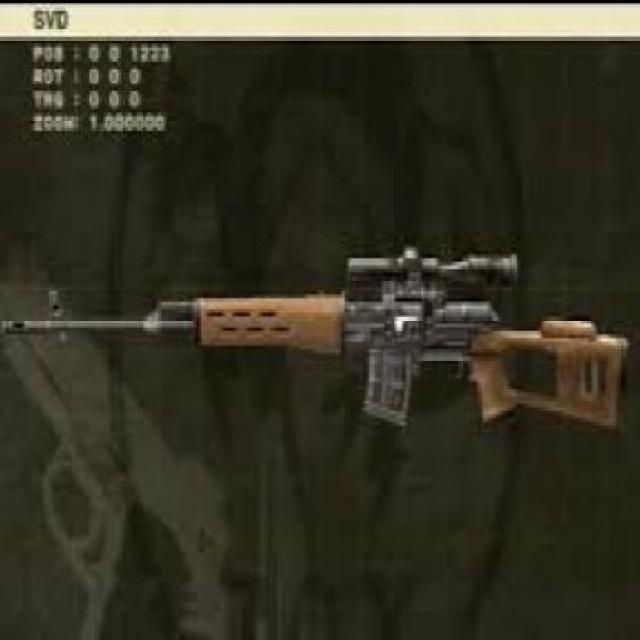weapon: (6, 239, 633, 461)
